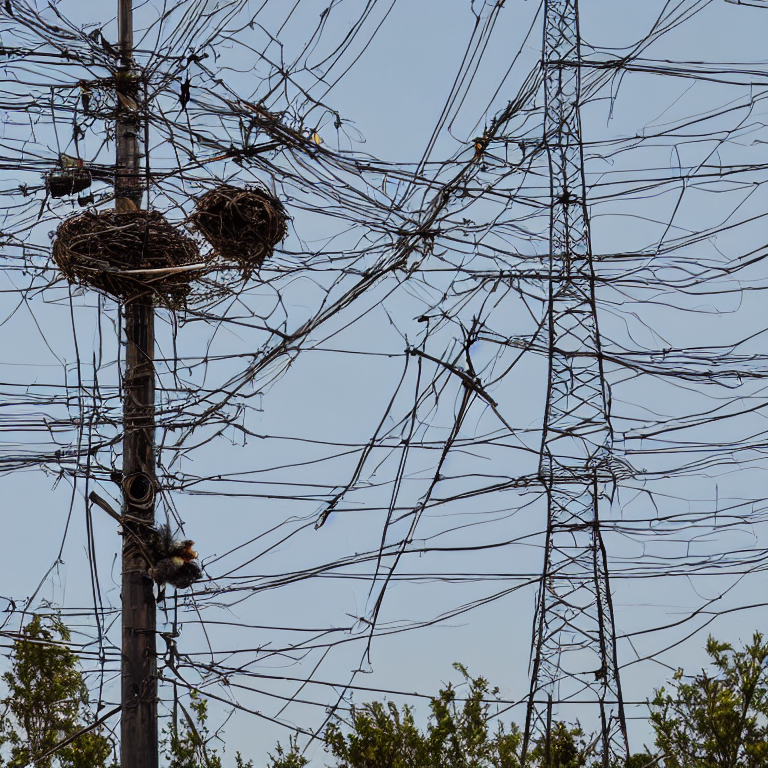nest: (56, 211, 199, 301), (198, 192, 282, 256), (152, 533, 200, 581)
